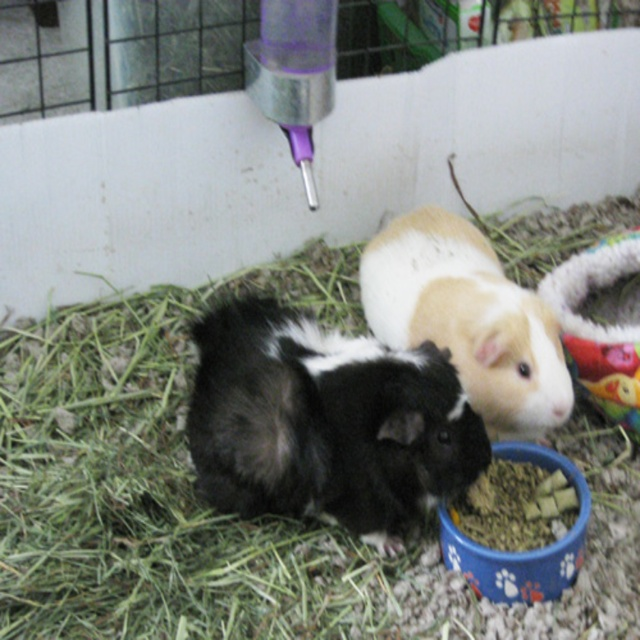Hamster: (185, 296, 491, 561), (358, 198, 575, 445)
